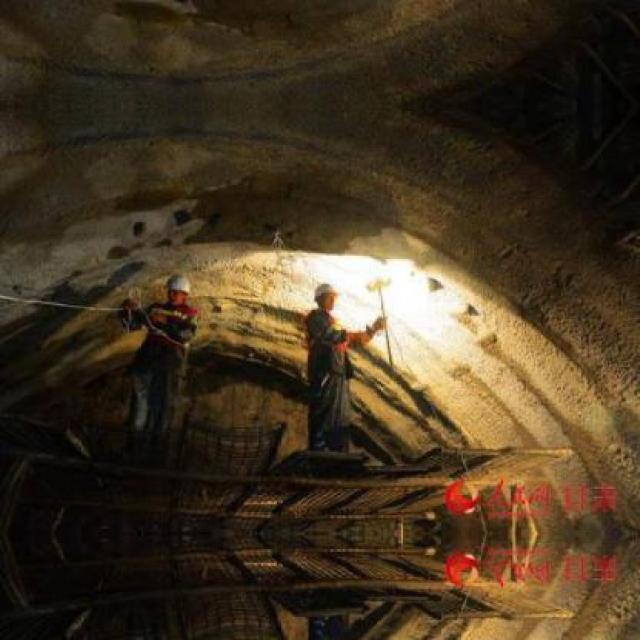hat: (312, 281, 345, 304), (167, 275, 196, 298)
